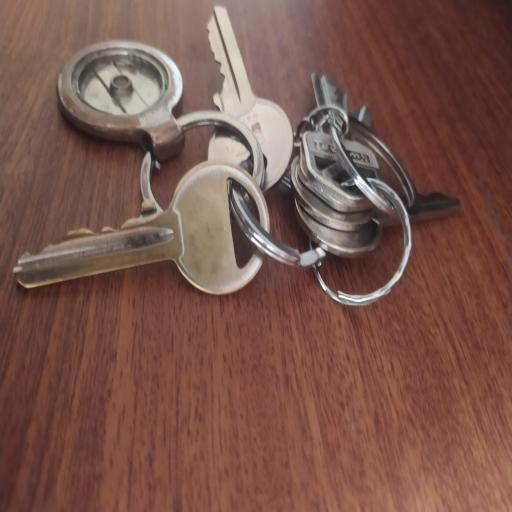Llaves: (11, 4, 465, 320)
